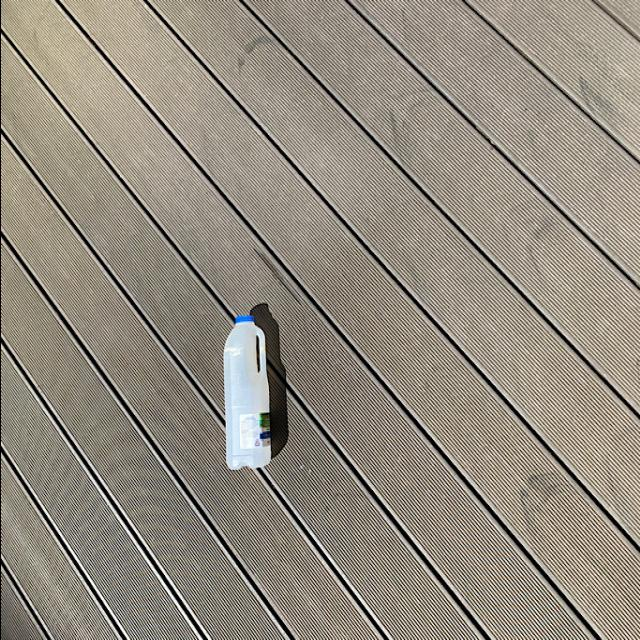HDPEM: (218, 309, 276, 475)
